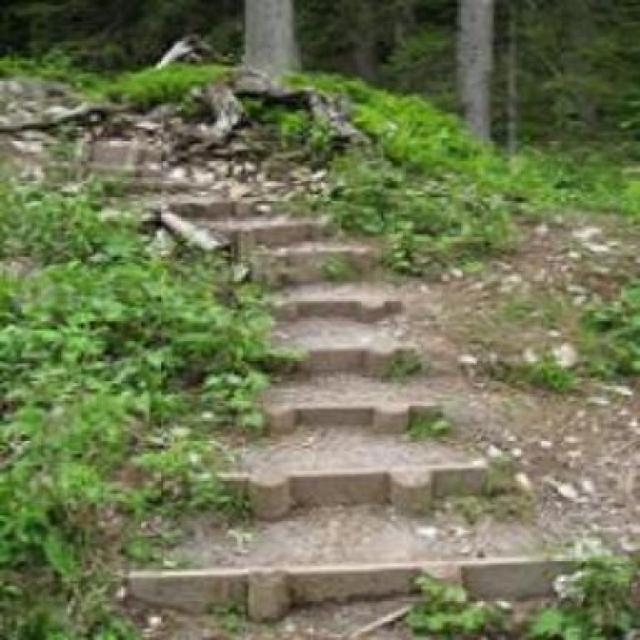stair: (158, 178, 571, 612)
